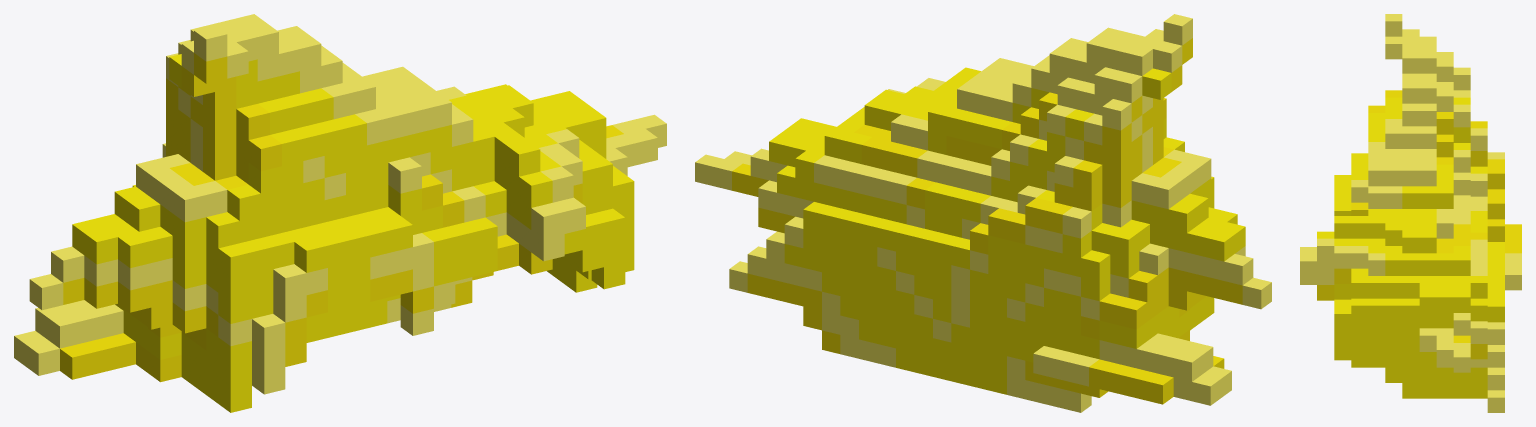
The model's file is accessories_head_gokussj.glb.
The picture shows the model from 3 angles, left to right: view 1: azimuth 30°, elevation 25°; view 2: azimuth 150°, elevation 25°; view 3: azimuth 270°, elevation 25°; orthographic projection. The views are drawn at different scales.
Visible parts, largest first — view 1: model_0; view 2: model_0; view 3: model_0.
Part boxes in pixels (x1=…): model_0: x1=14, y1=14, x2=666, y2=412; model_0: x1=695, y1=14, x2=1271, y2=412; model_0: x1=1300, y1=14, x2=1521, y2=412.
Size of the model in its own units: 30 by 18 by 13.
